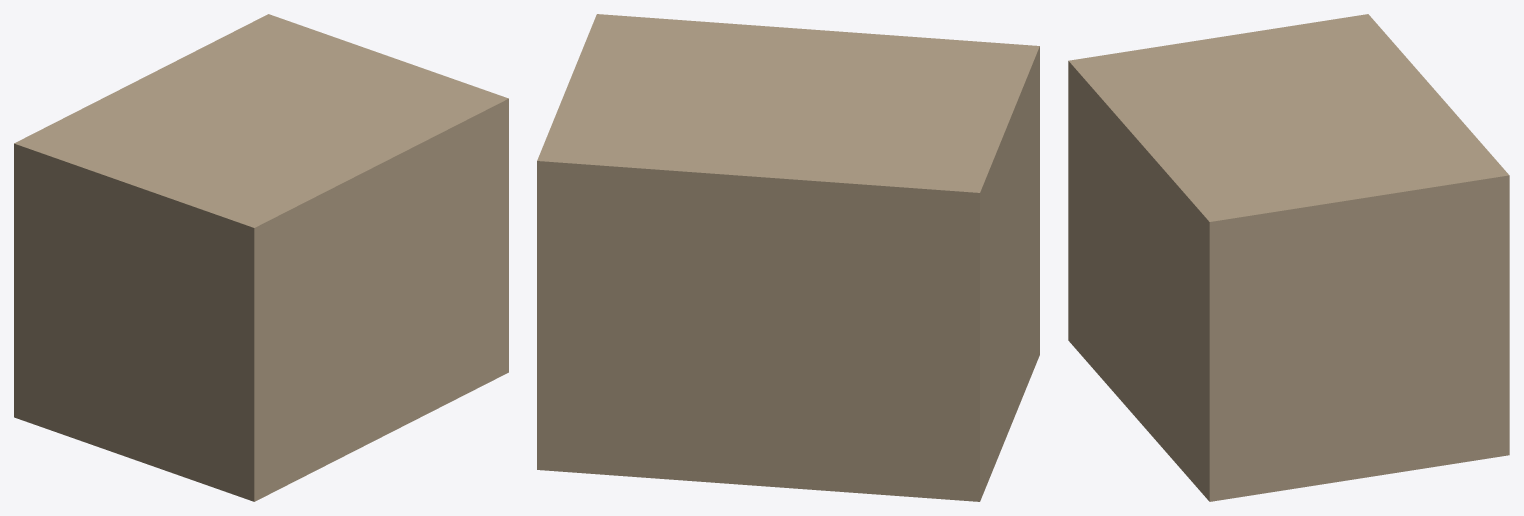
Rendered from bld_106796690.dae.
3 renders of one model, left to right at view 1: azimuth 30°, elevation 25°; view 2: azimuth 150°, elevation 25°; view 3: azimuth 270°, elevation 25°, orthographic. The views are drawn at different scales.
Visible parts, largest first — view 1: bld_106796690; view 2: bld_106796690; view 3: bld_106796690.
Part boxes in pixels (x1,y1,x2,y2): bld_106796690: (14, 14, 508, 501); bld_106796690: (537, 14, 1039, 501); bld_106796690: (1068, 14, 1509, 501).
Size of the model in its own units: 12.75 by 11.42 by 8.
